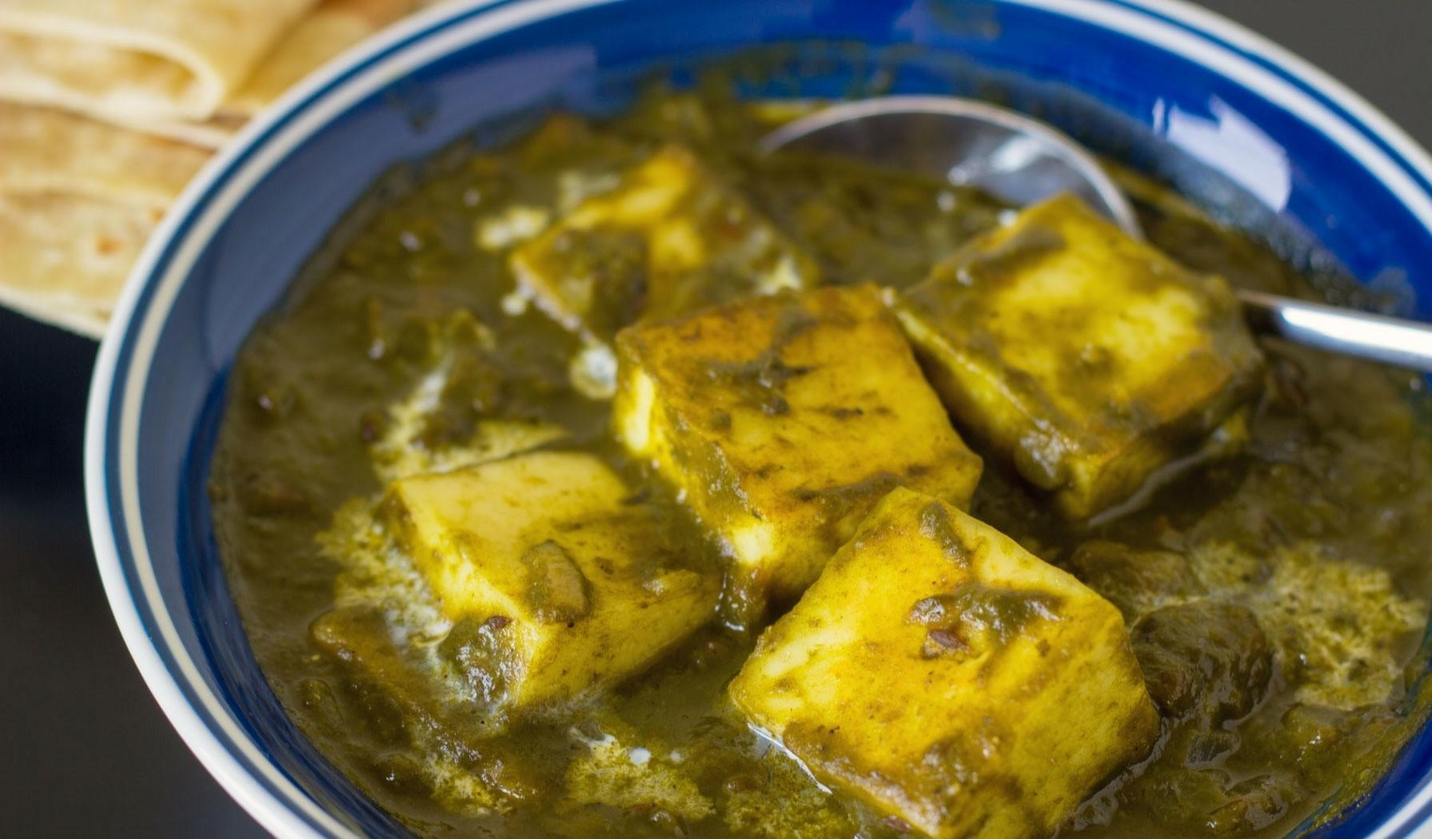PalakPaneer: (208, 91, 1432, 839)
